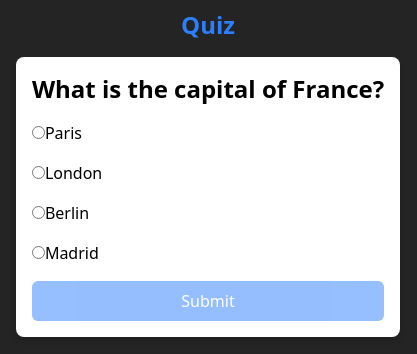
Test: QuizPage › submit button should be enabled if option is selected
Click the radio button next to "Paris": (38, 132) [32,126,45,139]
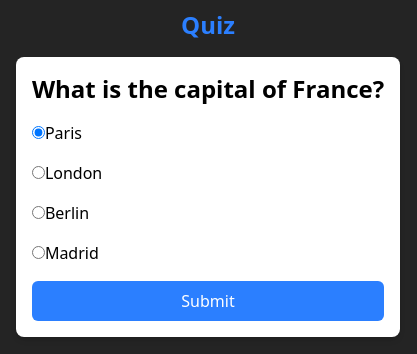
expect the button "Submit" is enabled: met, box [32,281,384,321]
